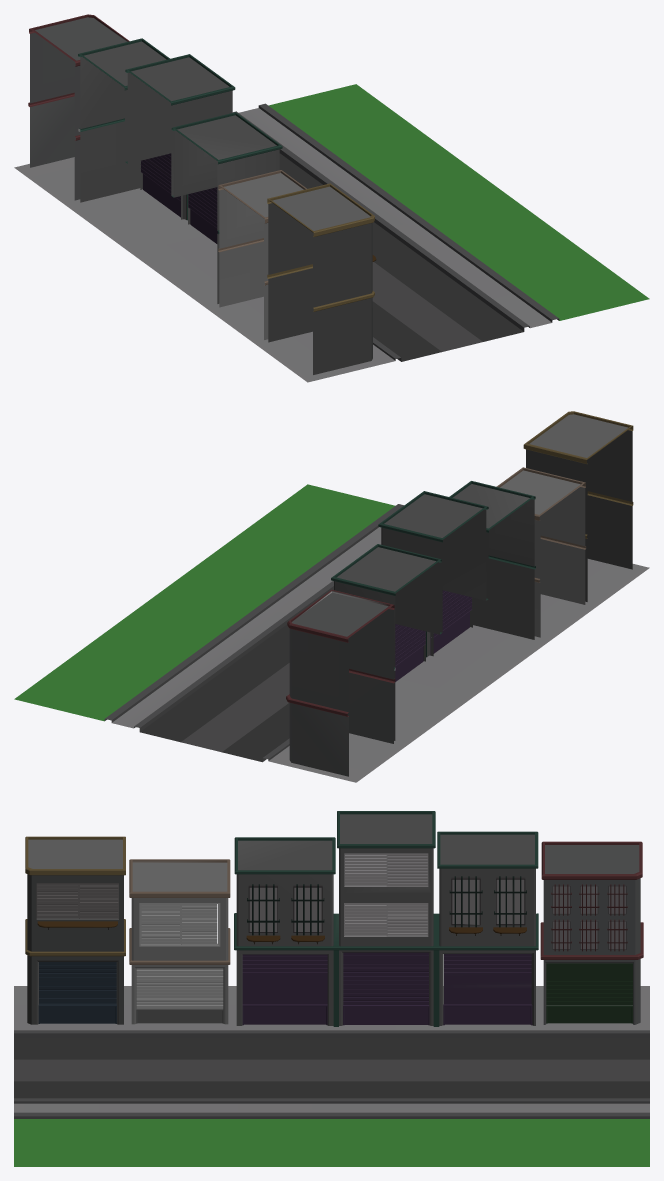
Rendered from Tile_Rua_5.fbx.
3 views of the same model, one above another, from view 1: azimuth 30°, elevation 25°; view 2: azimuth 150°, elevation 25°; view 3: azimuth 270°, elevation 25° (orthographic). The views are drawn at different scales.
Parts seen in each view (by area): view 1: Tile_Rua_5; view 2: Tile_Rua_5; view 3: Tile_Rua_5.
Boxes of the visible parts, left/top/right/bottom form: Tile_Rua_5: left=14, top=14, right=649, bottom=382; Tile_Rua_5: left=14, top=411, right=649, bottom=782; Tile_Rua_5: left=14, top=811, right=649, bottom=1166.
Size of the model in its own units: 1209 by 574 by 1797.
